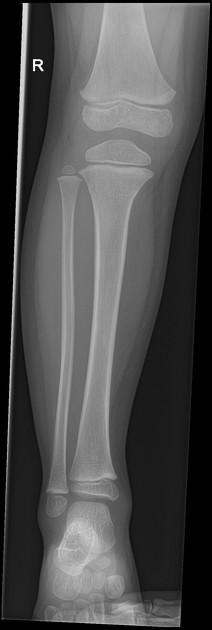fractured: (93, 186, 136, 202)
